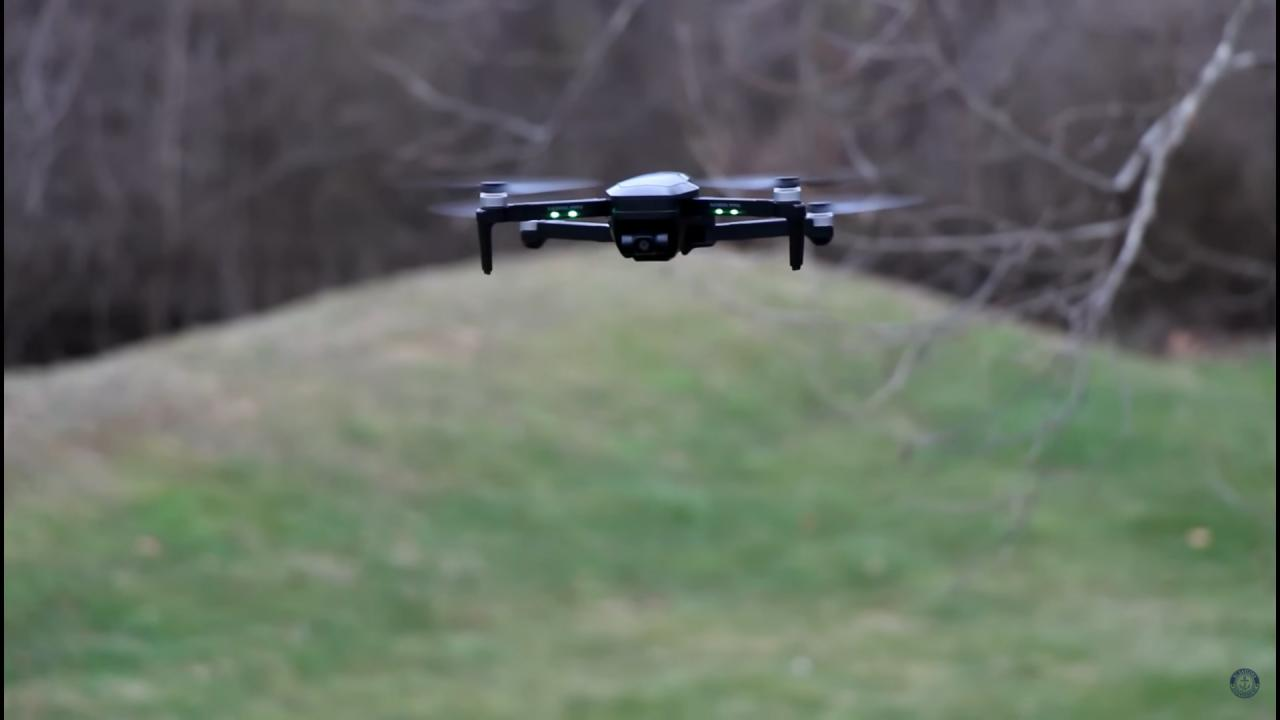Drone: (376, 162, 935, 283)
